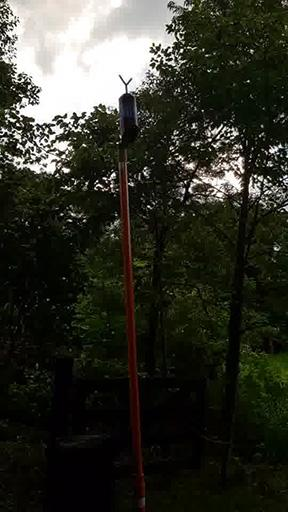Detector_Tensao_Contato: (117, 73, 138, 146)
Vara_Manobra: (115, 145, 144, 512)
